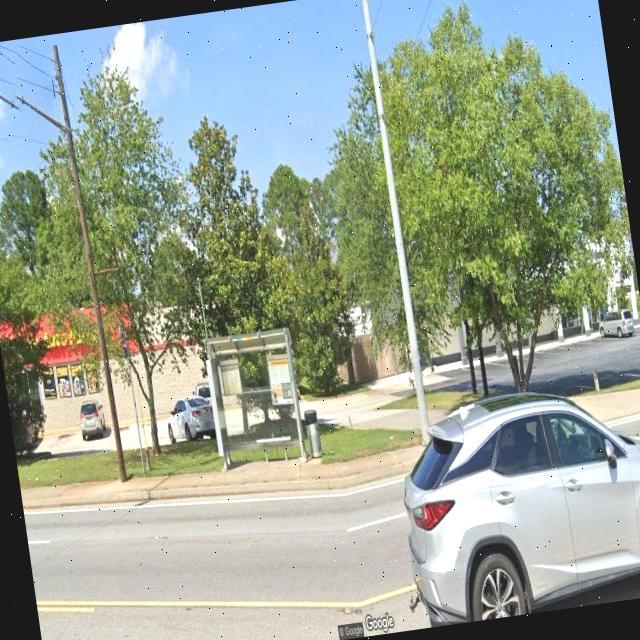seating: (258, 435, 296, 467)
shelter: (201, 326, 311, 478)
trash_can: (302, 408, 322, 458)
